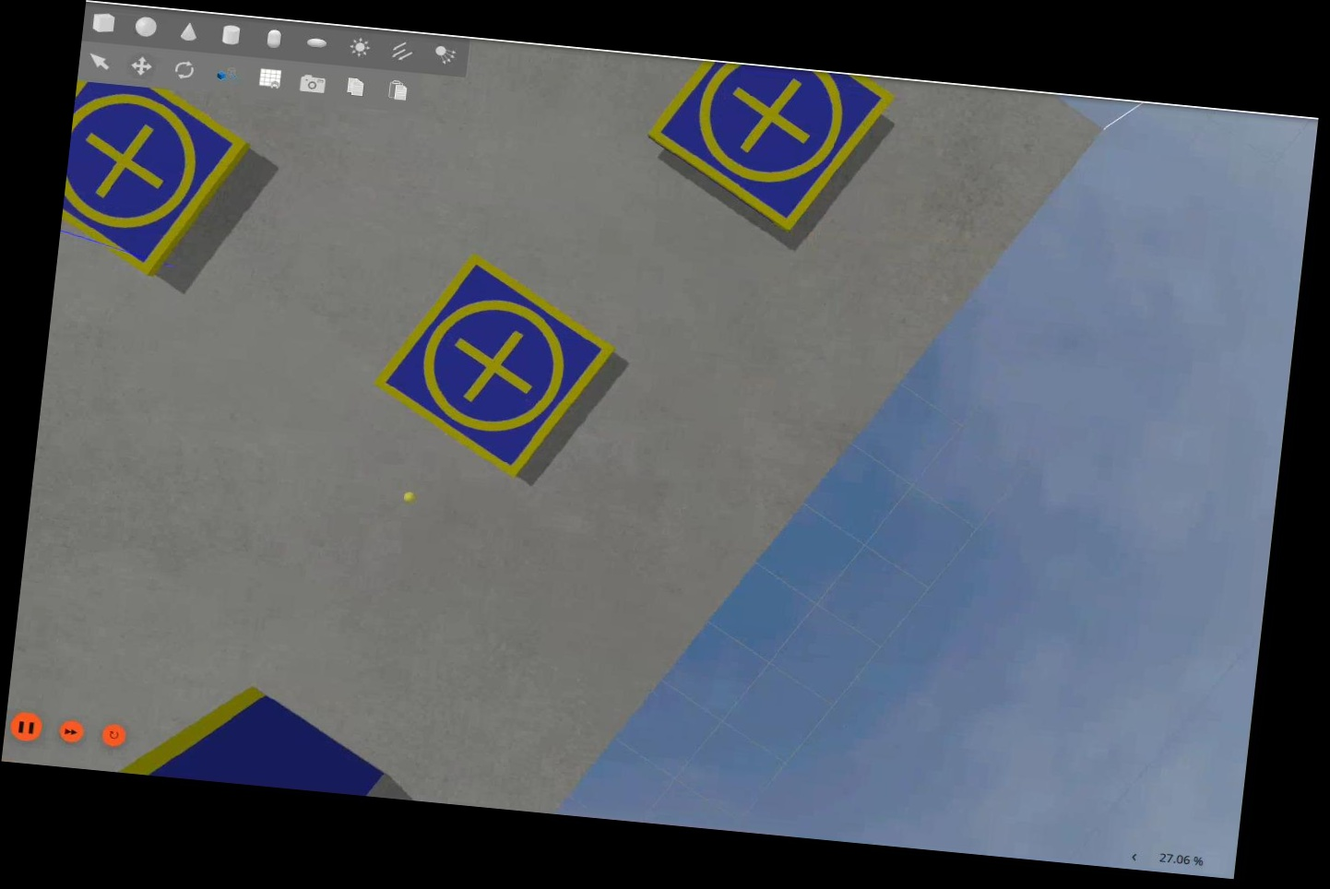small_base: (365, 245, 623, 487), (639, 54, 903, 251), (56, 75, 249, 286)
